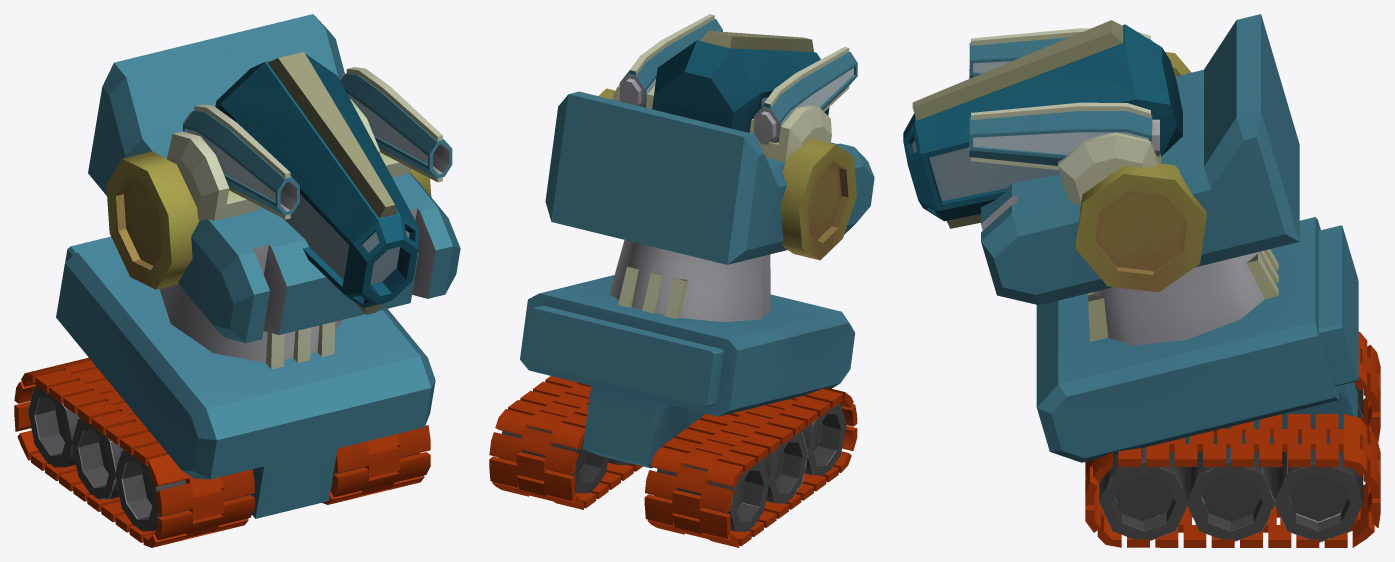
The model's file is player_move_1_upgrade8.obj.
The picture shows the model from 3 angles, left to right: view 1: azimuth 30°, elevation 25°; view 2: azimuth 150°, elevation 25°; view 3: azimuth 270°, elevation 25°; orthographic projection. The views are drawn at different scales.
Visible parts, largest first — view 1: Object004, Box038, Object012, Object011, Box042; view 2: Object004, Box038, Box042, Object011, Object012; view 3: Object004, Object011, Box042, Object012, Box038.
Boxes of the visible parts, bbox=[...] form: Object004: bbox=[56, 14, 460, 518]; Box038: bbox=[14, 357, 254, 547]; Object012: bbox=[183, 67, 452, 219]; Object011: bbox=[28, 386, 419, 531]; Box042: bbox=[322, 425, 430, 504]; Object004: bbox=[520, 31, 874, 468]; Box038: bbox=[644, 387, 857, 547]; Box042: bbox=[489, 376, 642, 509]; Object011: bbox=[499, 404, 846, 531]; Object012: bbox=[619, 14, 857, 144]; Object004: bbox=[903, 14, 1358, 462]; Object011: bbox=[1099, 384, 1363, 542]; Box042: bbox=[1085, 414, 1380, 547]; Object012: bbox=[969, 28, 1159, 170]; Box038: bbox=[1354, 331, 1380, 442].
Size of the model in its own units: 110 by 180 by 169.
Materials: 4 (2 with a texture image).
